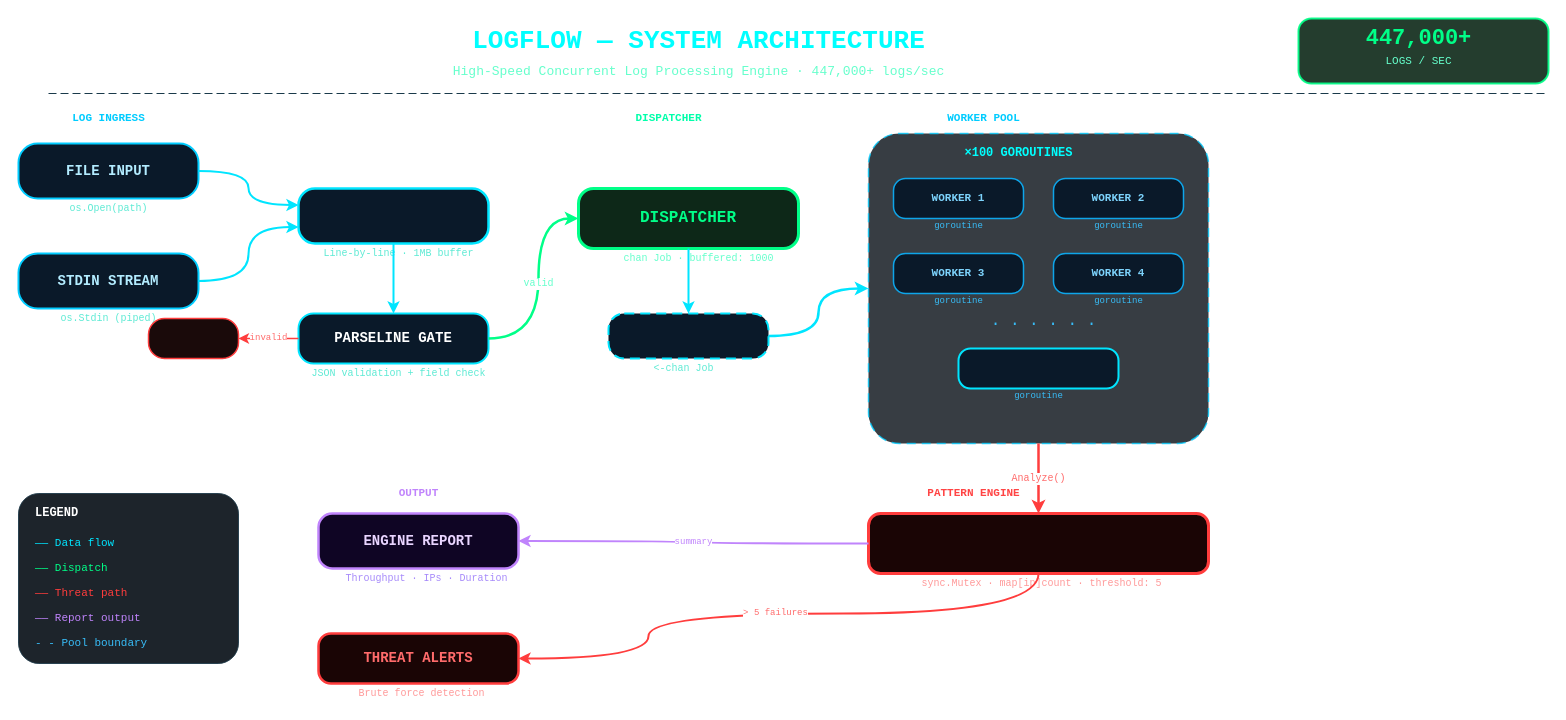
Some shapes in this 1566 by 720 pixel diagram are drawn without their labels. The box of each missing label's shape, as (x1, y1, x2, y2) in pixels:
BUFIO.SCANNER: (297, 187, 489, 244)
REJECT: (147, 317, 239, 359)
THREAT DETECTOR: (866, 512, 1210, 574)
WORK CHANNEL: (607, 312, 769, 359)
WORKER 100: (957, 347, 1119, 389)
